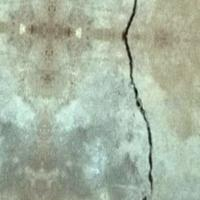crack: (99, 0, 171, 199)
